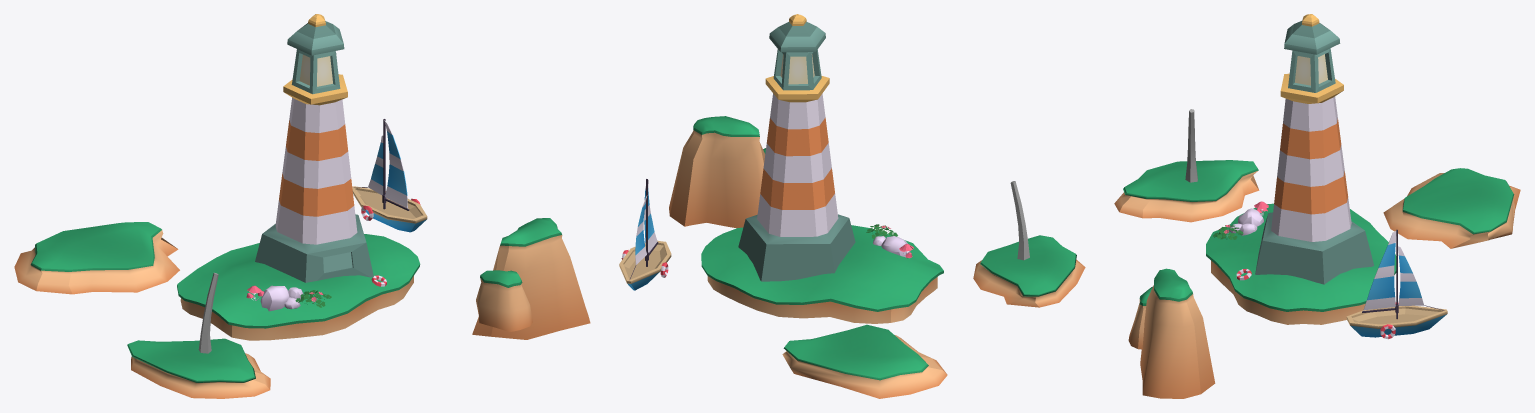
File: env.fbx
The picture shows the model from 3 angles, left to right: view 1: azimuth 30°, elevation 25°; view 2: azimuth 150°, elevation 25°; view 3: azimuth 270°, elevation 25°; orthographic projection. The views are drawn at different scales.
Parts seen in each view (by area): view 1: pCylinder5, pCube2, pCylinder9, pCylinder6, pCylinder8, pCube11, pCylinder7, pCylinder10, pCube12; view 2: pCylinder5, pCube2, pCylinder6, pCylinder9, pCylinder8, pCube11, pCylinder10; view 3: pCylinder5, pCube2, pCylinder9, pCylinder6, pCylinder8, pCube11, pCylinder7, pCylinder10.
Boxes of the visible parts, x1,y1,x2,y2 form: pCylinder5: (255, 14, 373, 282); pCube2: (177, 234, 420, 340); pCylinder9: (14, 222, 179, 294); pCylinder6: (472, 218, 590, 339); pCylinder8: (127, 338, 270, 398); pCube11: (352, 119, 427, 232); pCylinder7: (476, 270, 532, 331); pCylinder10: (198, 272, 218, 353); pCube12: (260, 285, 289, 311); pCylinder5: (738, 14, 855, 281); pCube2: (701, 225, 943, 323); pCylinder6: (669, 116, 765, 228); pCylinder9: (782, 324, 947, 398); pCylinder8: (973, 235, 1085, 307); pCube11: (619, 179, 671, 290); pCylinder10: (1010, 181, 1029, 260); pCylinder5: (1255, 14, 1373, 284); pCube2: (1206, 203, 1396, 324); pCylinder9: (1383, 168, 1520, 248); pCylinder6: (1140, 268, 1215, 398); pCylinder8: (1114, 160, 1259, 222); pCube11: (1346, 229, 1447, 337); pCylinder7: (1128, 286, 1152, 349); pCylinder10: (1185, 109, 1197, 182).
Size of what is drawn, in the model's own units: 59.6 by 39.33 by 50.04.
2 materials, 1 textured.
